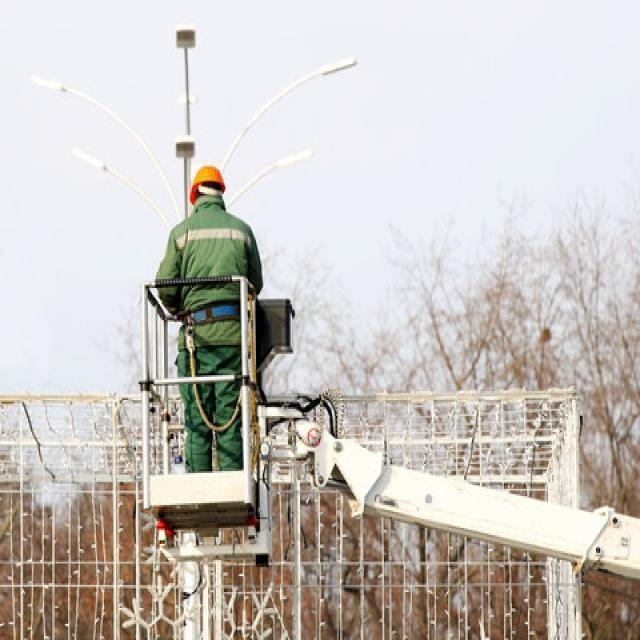Arnes_seguridad: (189, 302, 239, 323)
